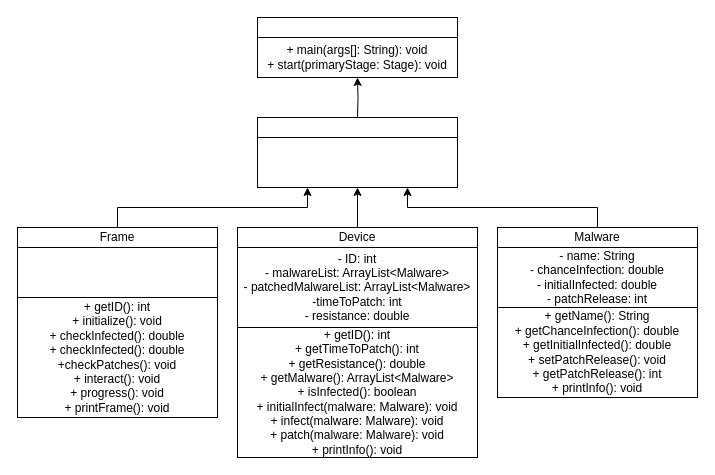
This 715x475 diagram has some shape labels left out. The centre of each missing label's shape, as x and y in pixels:
- ID: int - malwareList: ArrayList<Malware> - DeviceList: ArrayList<Device>: point (117, 272)
- NUM_OF_MALWARE: int - NUM_OF_DEVICES: int - NUM_OF_FRAMES: int: point (357, 162)
Main: point (357, 27)
xDemic: point (357, 127)
